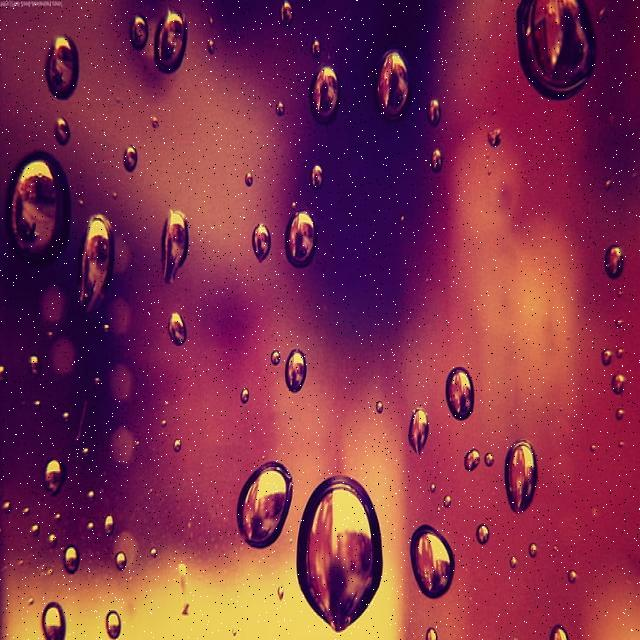raindrop: (292, 455, 390, 640), (497, 0, 605, 134), (6, 130, 75, 284), (233, 426, 300, 568), (403, 523, 468, 640), (76, 202, 130, 326), (35, 20, 91, 120), (438, 337, 492, 438), (501, 422, 551, 528), (145, 0, 202, 87), (152, 195, 198, 299), (363, 40, 408, 141), (278, 192, 324, 290), (302, 42, 349, 136), (593, 208, 640, 300), (402, 378, 441, 469), (278, 326, 318, 407), (242, 208, 280, 283), (22, 590, 78, 640)
